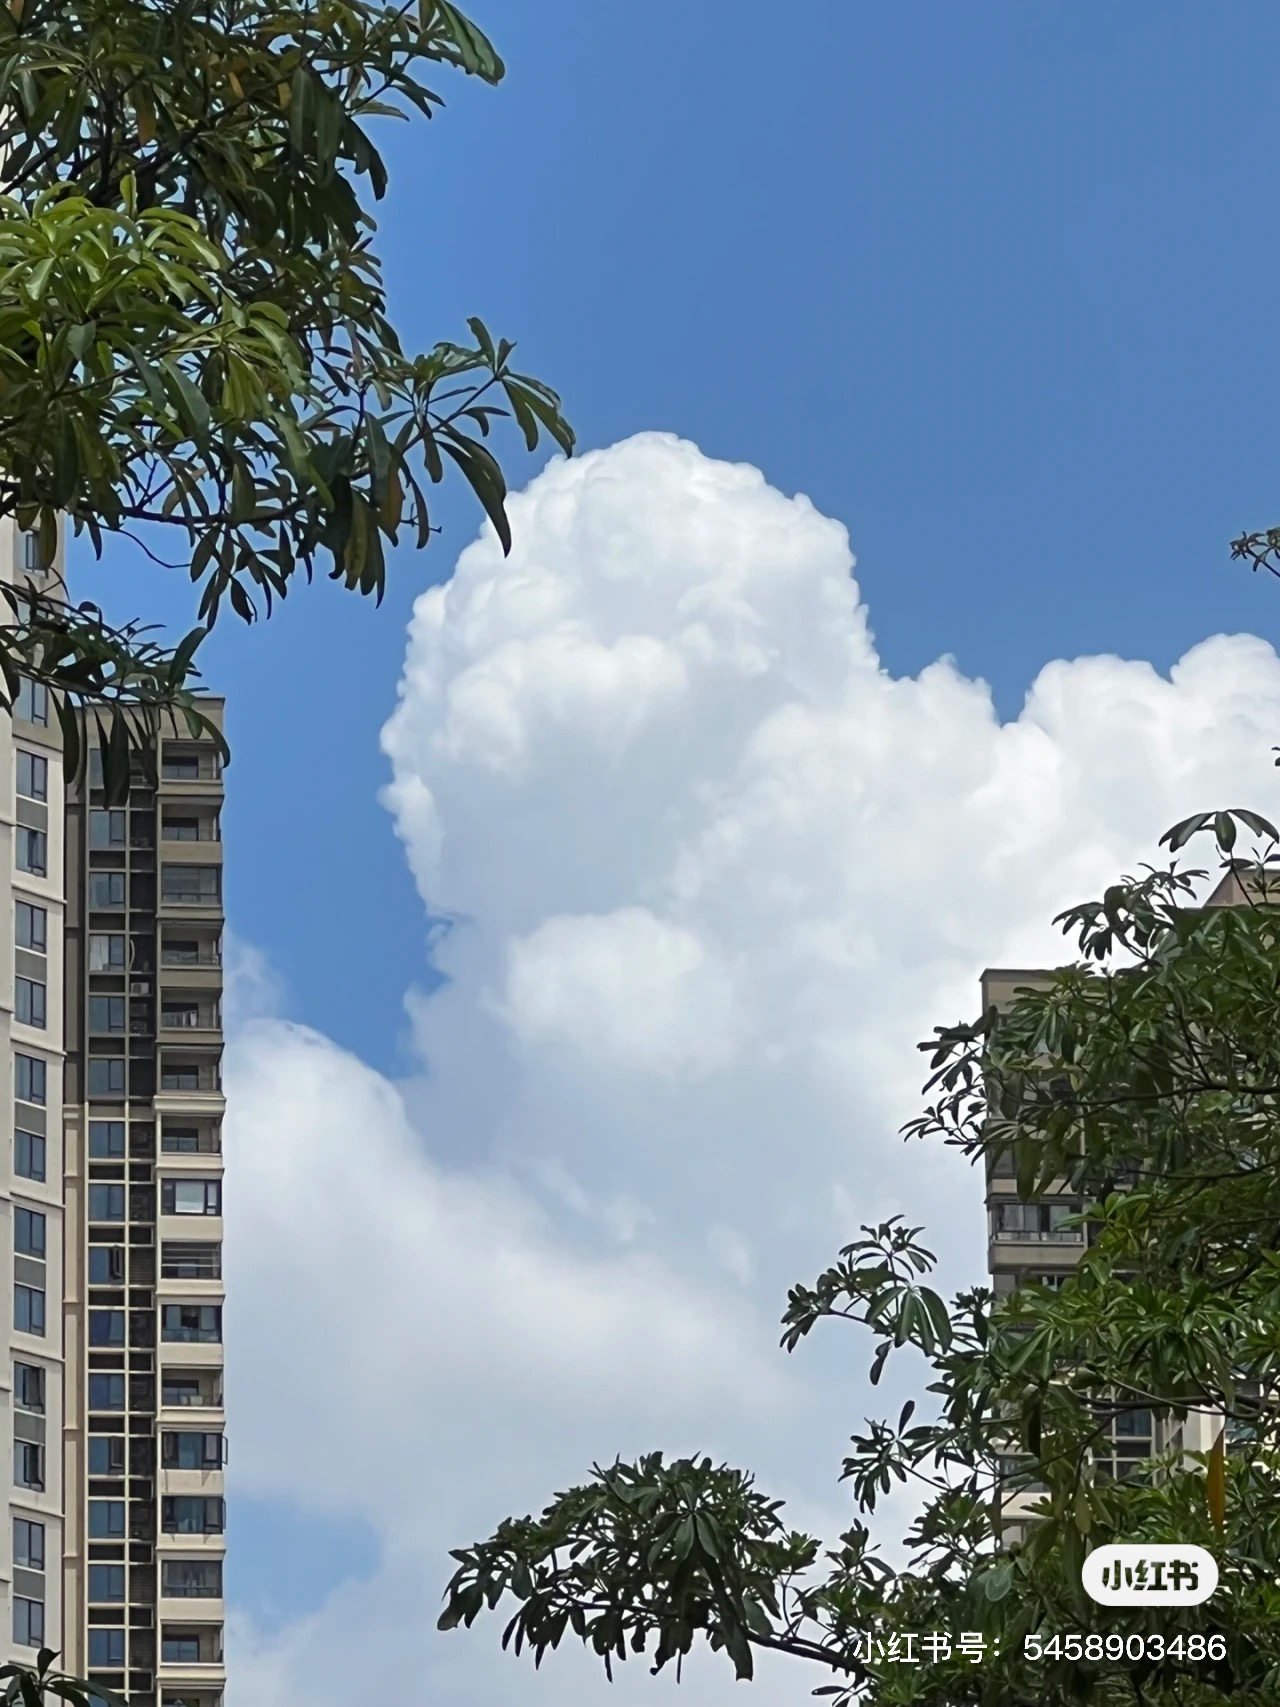Cumulus: (376, 382, 1237, 1165), (233, 962, 906, 1540)
